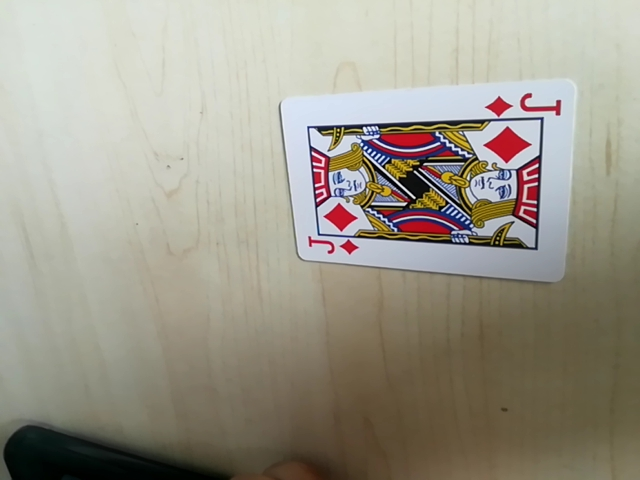fk j: (485, 90, 564, 120), (301, 235, 358, 262)
